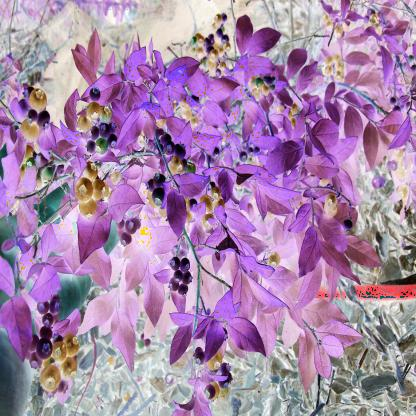blueberry leaf: (68, 283, 154, 382), (173, 57, 239, 180), (202, 287, 286, 379), (293, 309, 369, 394), (111, 81, 169, 162), (305, 118, 360, 188), (330, 218, 384, 279), (236, 6, 284, 68), (313, 231, 364, 289), (160, 314, 203, 379), (1, 292, 35, 366), (257, 139, 315, 181), (296, 223, 325, 289), (358, 114, 385, 172), (35, 265, 64, 304)
